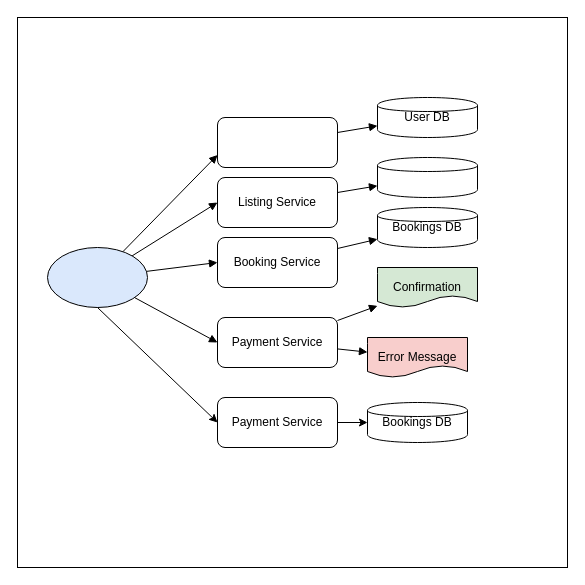
The diagram is 585 pixels wide and 585 high, and some of its shapes have lost their labels. The shapes that lost their labels are listed below. From the top down, each one's centre as x and y in pixels, then its label:
At [277,142]: "Auth Service".
At [427,177]: "Listings DB".
At [97,277]: "Users".
